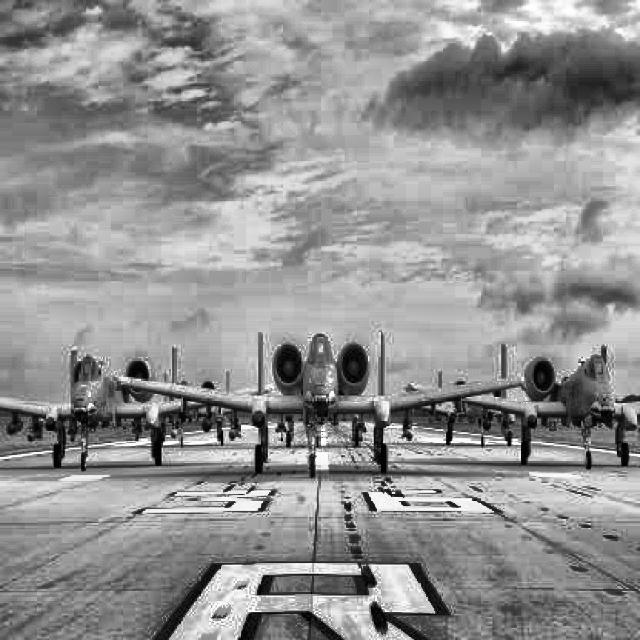A10: (115, 331, 527, 478), (1, 343, 276, 472), (400, 343, 640, 471), (413, 370, 518, 448), (161, 369, 248, 448)
